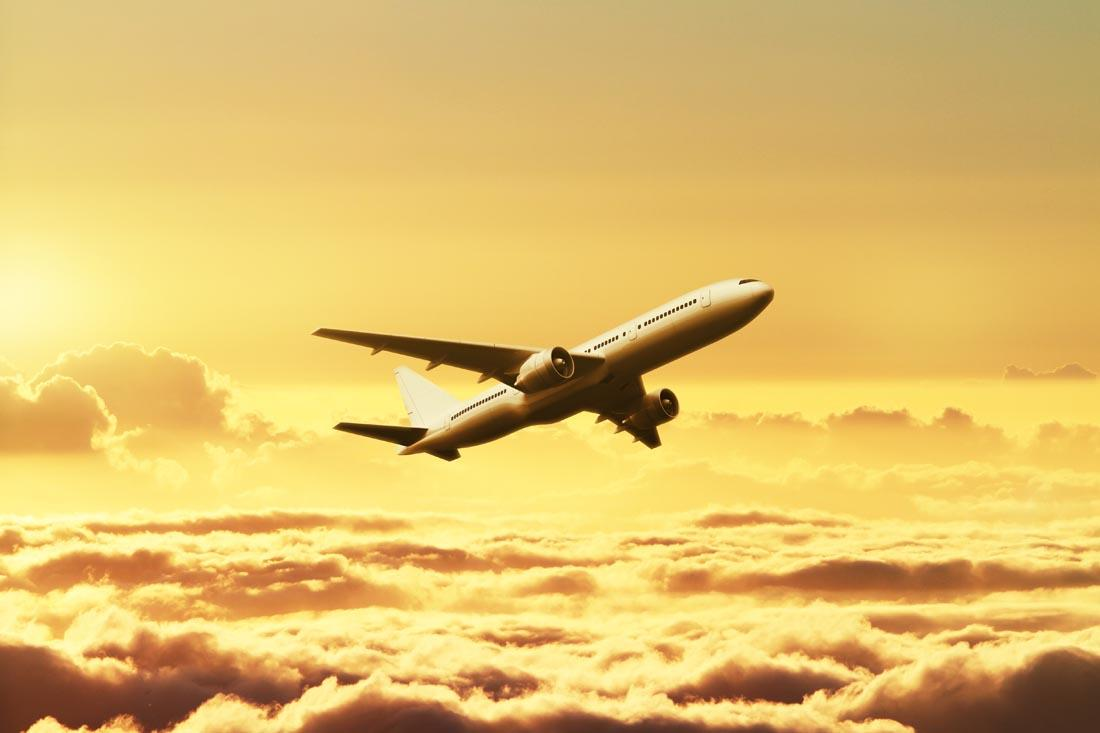airplane: (305, 273, 782, 463)
